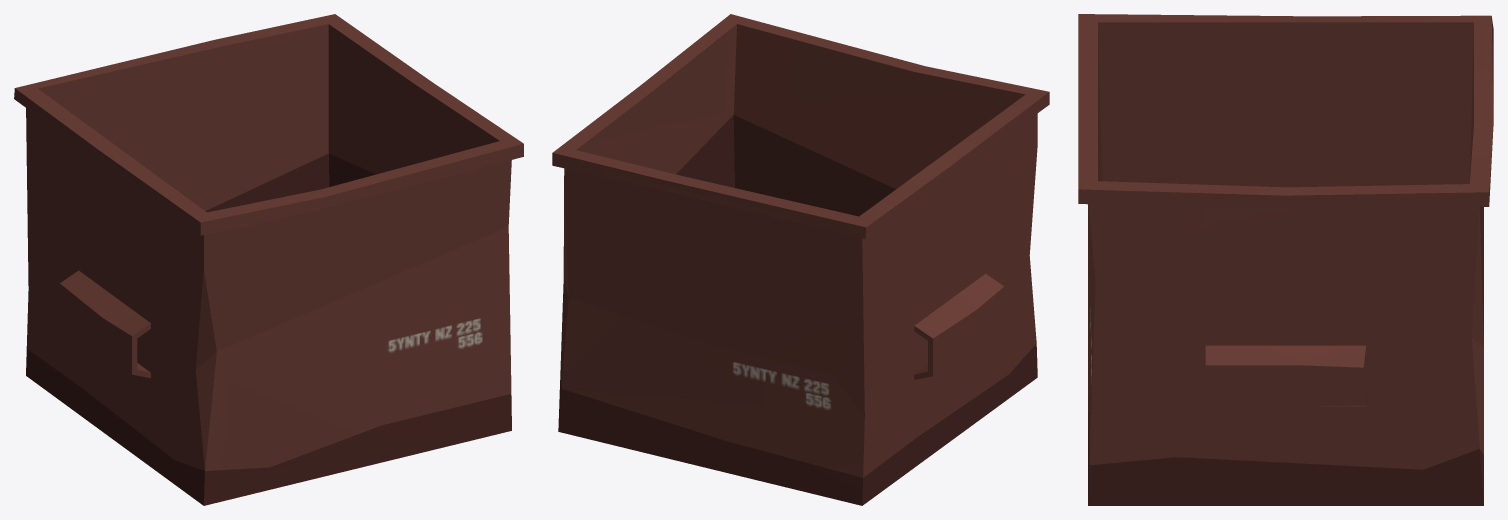
Rendered from SM_Prop_Skip_Large_02.fbx.
3 views of the same model, side by side, from view 1: azimuth 30°, elevation 25°; view 2: azimuth 150°, elevation 25°; view 3: azimuth 270°, elevation 25° (orthographic). The views are drawn at different scales.
Parts seen in each view (by area): view 1: SM_Prop_Skip_Large_02; view 2: SM_Prop_Skip_Large_02; view 3: SM_Prop_Skip_Large_02.
Part boxes in pixels (<box>): SM_Prop_Skip_Large_02: <box>14,14,523,505</box>; SM_Prop_Skip_Large_02: <box>552,14,1049,505</box>; SM_Prop_Skip_Large_02: <box>1078,14,1493,505</box>.
Bounding box in the file's own units: 180 × 143 × 168.
